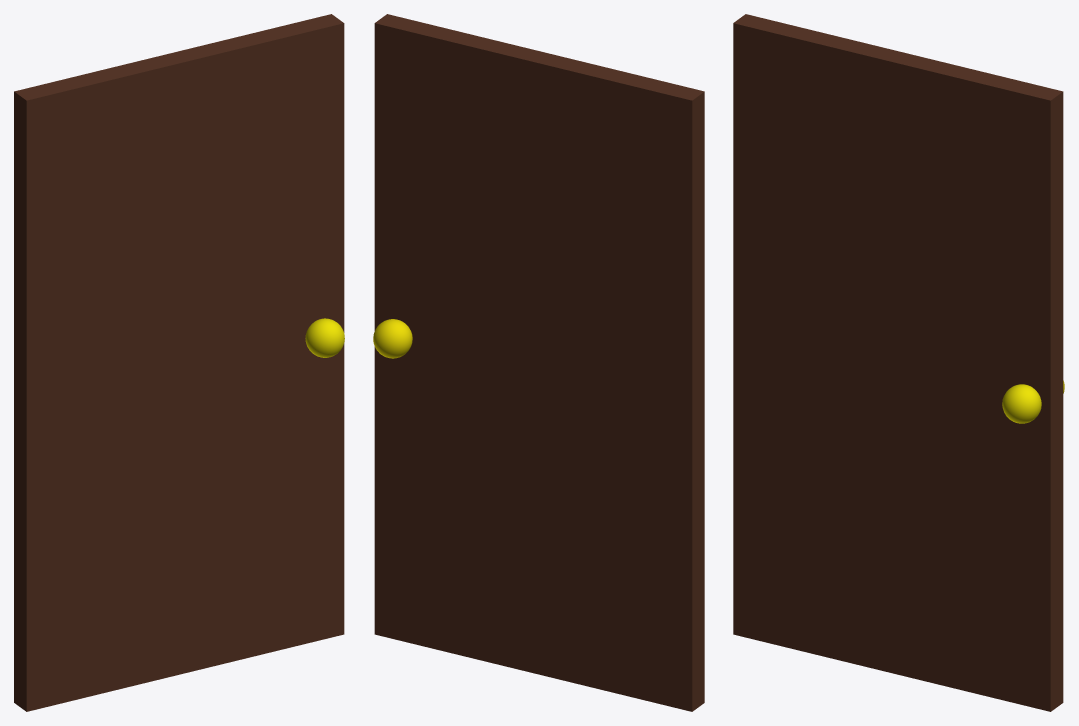
Rendered from door.fbx.
The picture shows the model from 3 angles, left to right: view 1: azimuth 30°, elevation 25°; view 2: azimuth 150°, elevation 25°; view 3: azimuth 330°, elevation 25°; orthographic projection.
Visible parts, largest first — view 1: Cube, Сфера; view 2: Cube, Сфера.001; view 3: Cube, Сфера.
Part boxes in pixels (bbox=[...]): Cube: bbox=[14, 14, 344, 711]; Сфера: bbox=[305, 318, 344, 357]; Cube: bbox=[374, 14, 704, 711]; Сфера.001: bbox=[373, 319, 412, 358]; Cube: bbox=[733, 14, 1063, 711]; Сфера: bbox=[1002, 384, 1041, 423].
Size of the model in its own units: 200 by 368 by 46.68.
